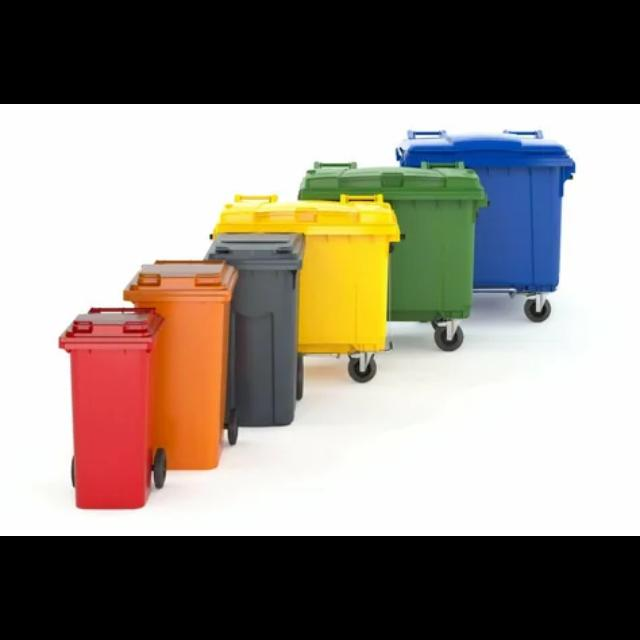Trash_Can_Closed: (296, 159, 487, 321), (209, 193, 402, 353), (395, 129, 576, 292), (121, 259, 239, 471), (58, 305, 168, 510), (203, 232, 304, 428)
